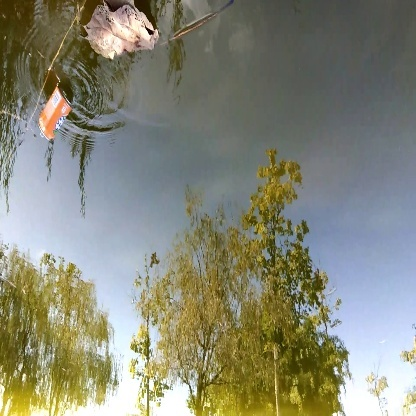bottle: (34, 82, 77, 145)
leaf: (84, 4, 201, 58)
